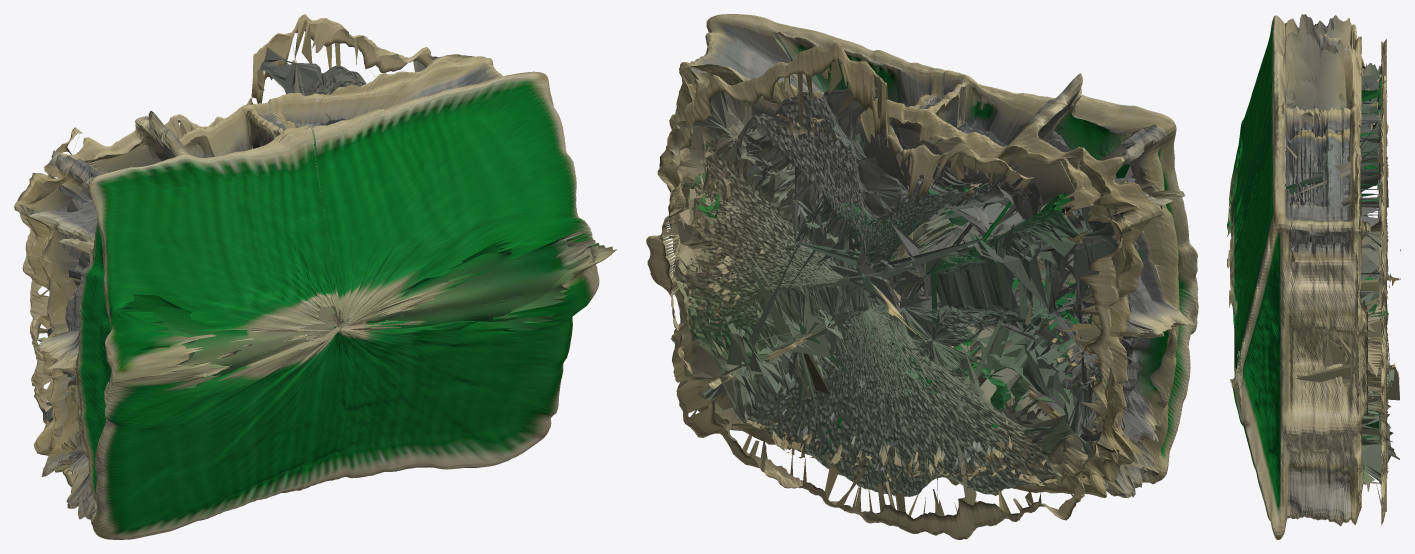
Rendered from mesh_inpaint.glb.
3 renders of one model, left to right at view 1: azimuth 30°, elevation 25°; view 2: azimuth 150°, elevation 25°; view 3: azimuth 270°, elevation 25°, orthographic. The views are drawn at different scales.
Parts seen in each view (by area): view 1: ipn, fill; view 2: fill, ipn; view 3: ipn, fill.
Part boxes in pixels (x1=…): ipn: x1=14, y1=14, x2=617, y2=539; fill: x1=20, y1=20, x2=597, y2=522; fill: x1=657, y1=31, x2=1178, y2=516; ipn: x1=646, y1=14, x2=1198, y2=539; ipn: x1=1227, y1=15, x2=1400, y2=539; fill: x1=1227, y1=14, x2=1399, y2=505.
Size of the model in its own units: 1.81 by 1.53 by 0.5724.
2 materials, 1 textured.
